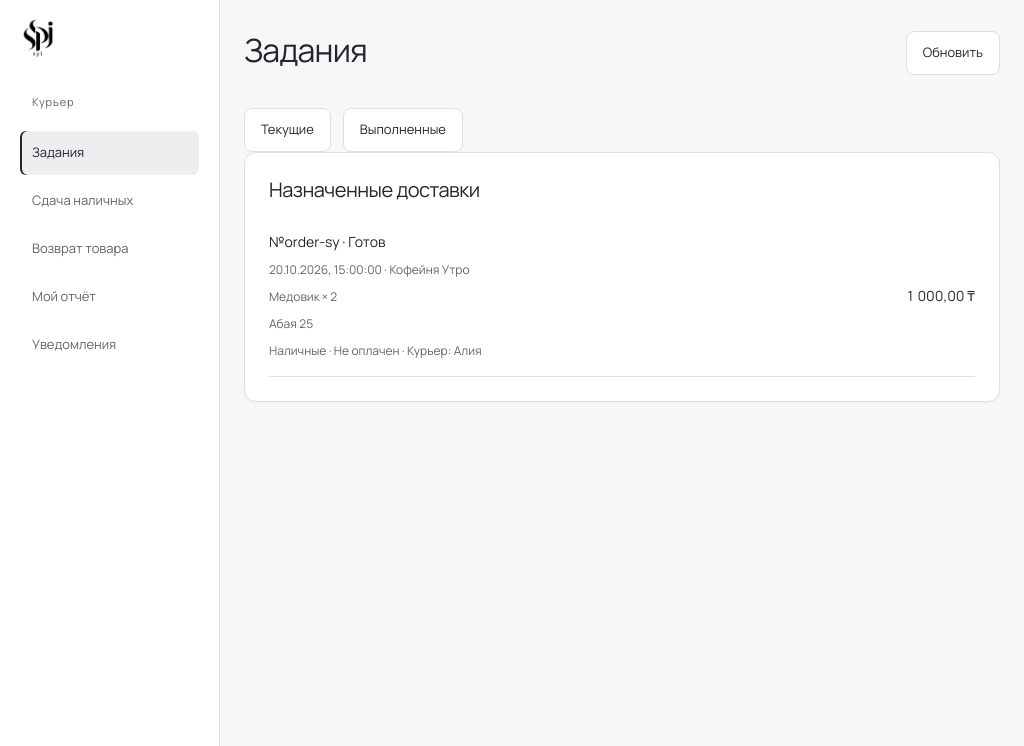
it: does not restore an old delivery state when an initial detail request arrives after a newer refresh
Click the button "order-sy" at (312, 241), box [269,215,975,377]
(page scrolled)
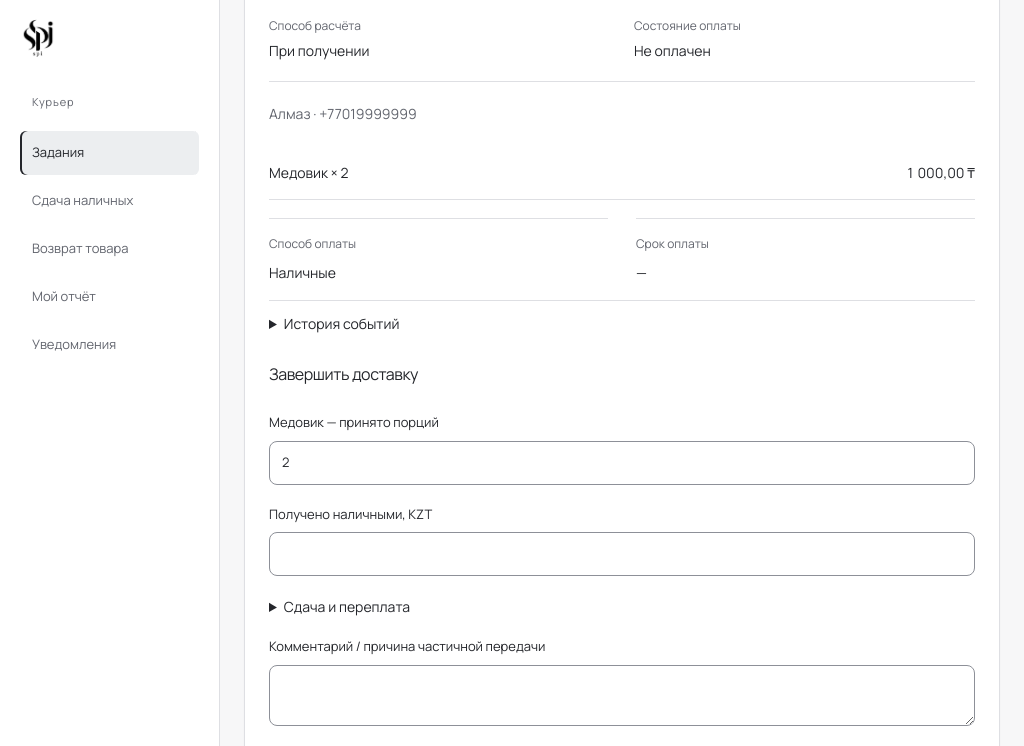
Now the heading "Завершить доставку" is shown, box [269,363,418,385]
